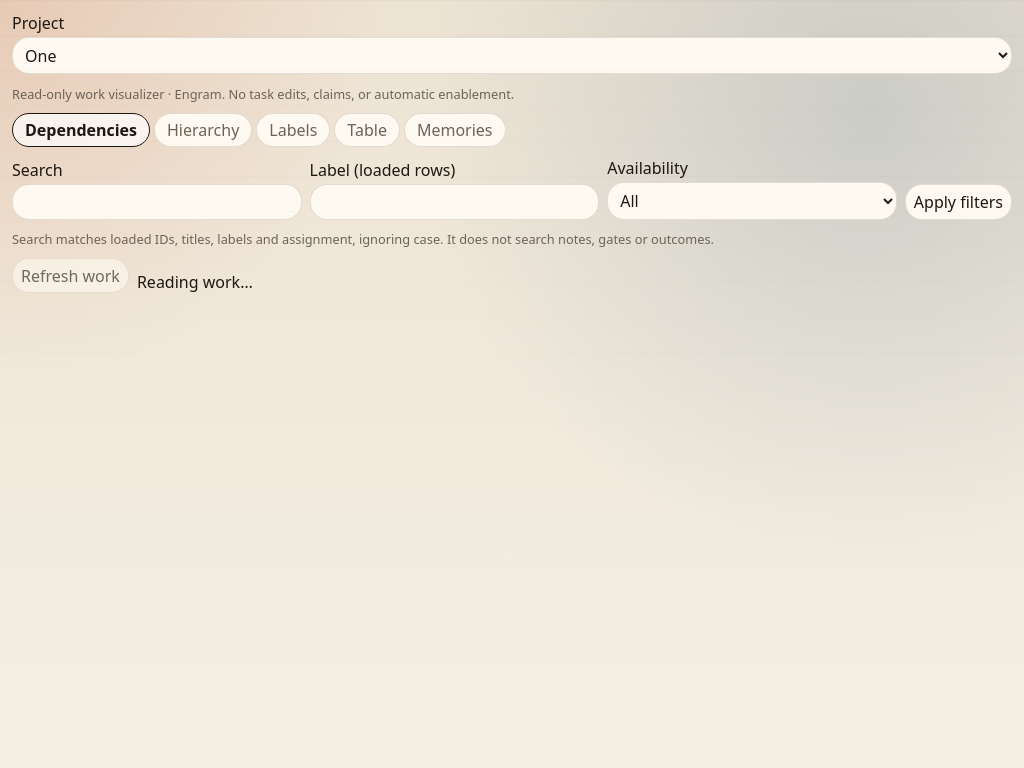
Test: WorkPanel › aborts and ignores a late response after switching projects
The image size is (1024, 768).
Select "Two" in the dropdown named "Work project" at (512, 56), box [12,37,1012,74]
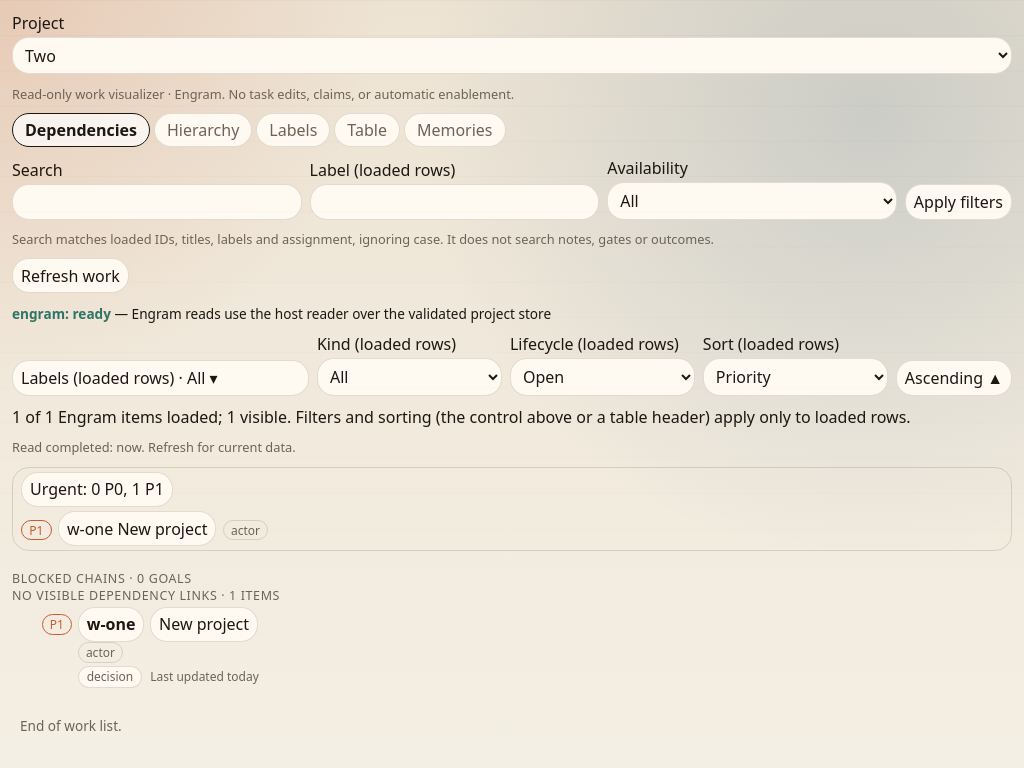
Check: the button with aria-label "w-one — New project" is shown, box [150,607,258,642]
